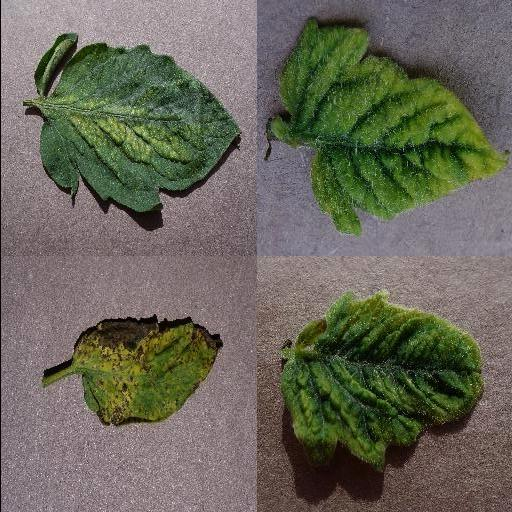Septoria: (71, 317, 221, 427)
Spider Mites: (37, 43, 241, 212)
Yellow Leaf Curl Virus: (275, 21, 511, 237), (279, 289, 485, 467)
